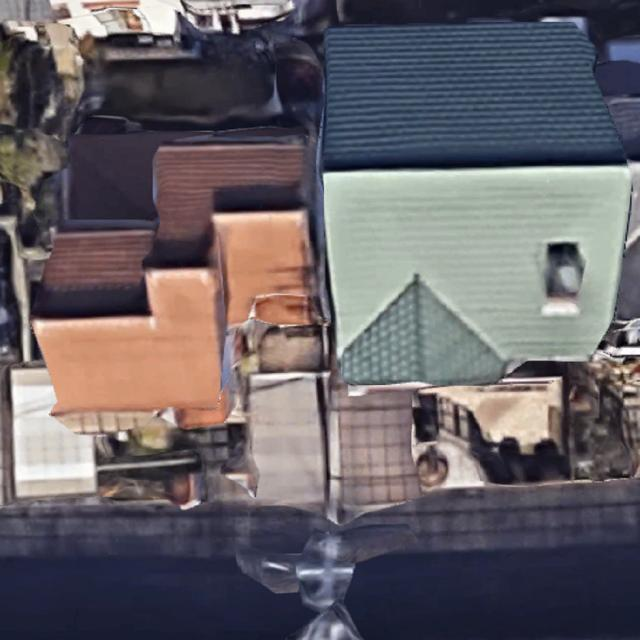Batiment: (322, 24, 629, 386), (32, 136, 326, 427)
